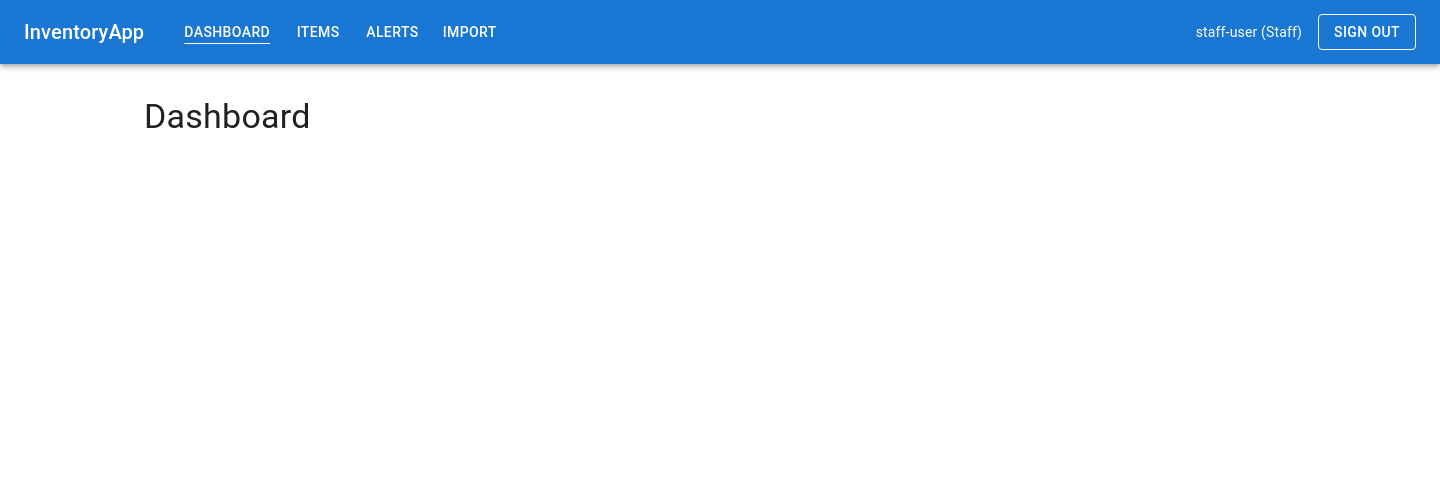
Scenario: App access control › shows who is signed in and signs out
Check: the text "staff-user (Staff)" is shown, box [1196,22,1302,42]
Click the button "Sign out": (1367, 32) [1318,14,1416,50]
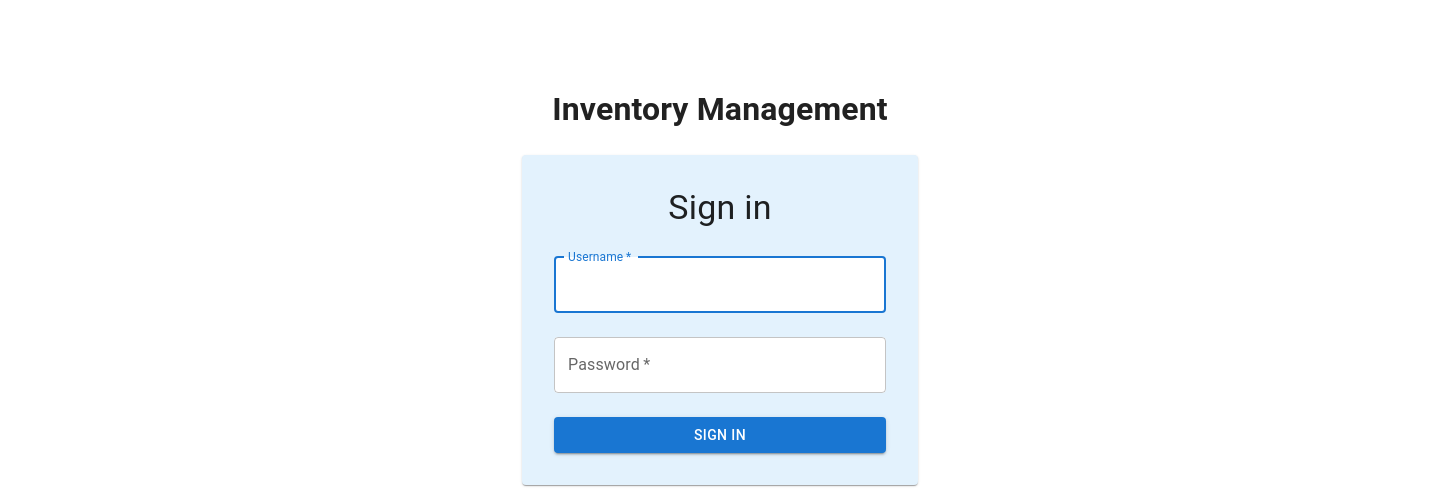
Check: the heading "Sign in" is shown, box [668,187,772,227]
